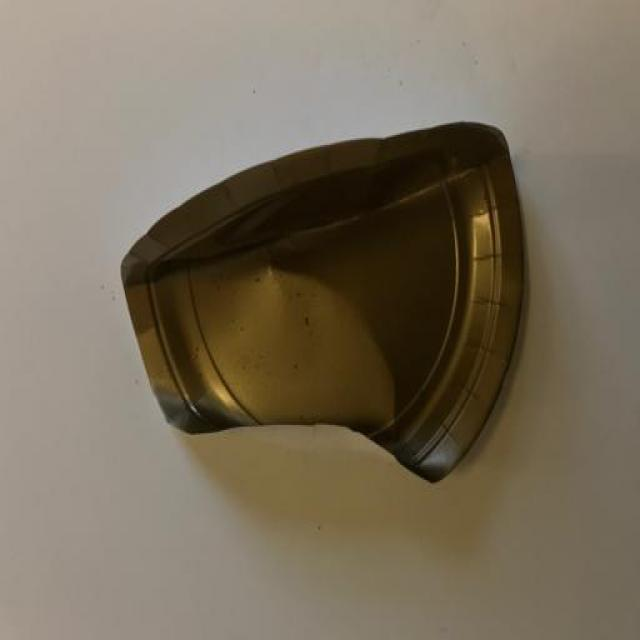metel: (112, 112, 586, 535)
